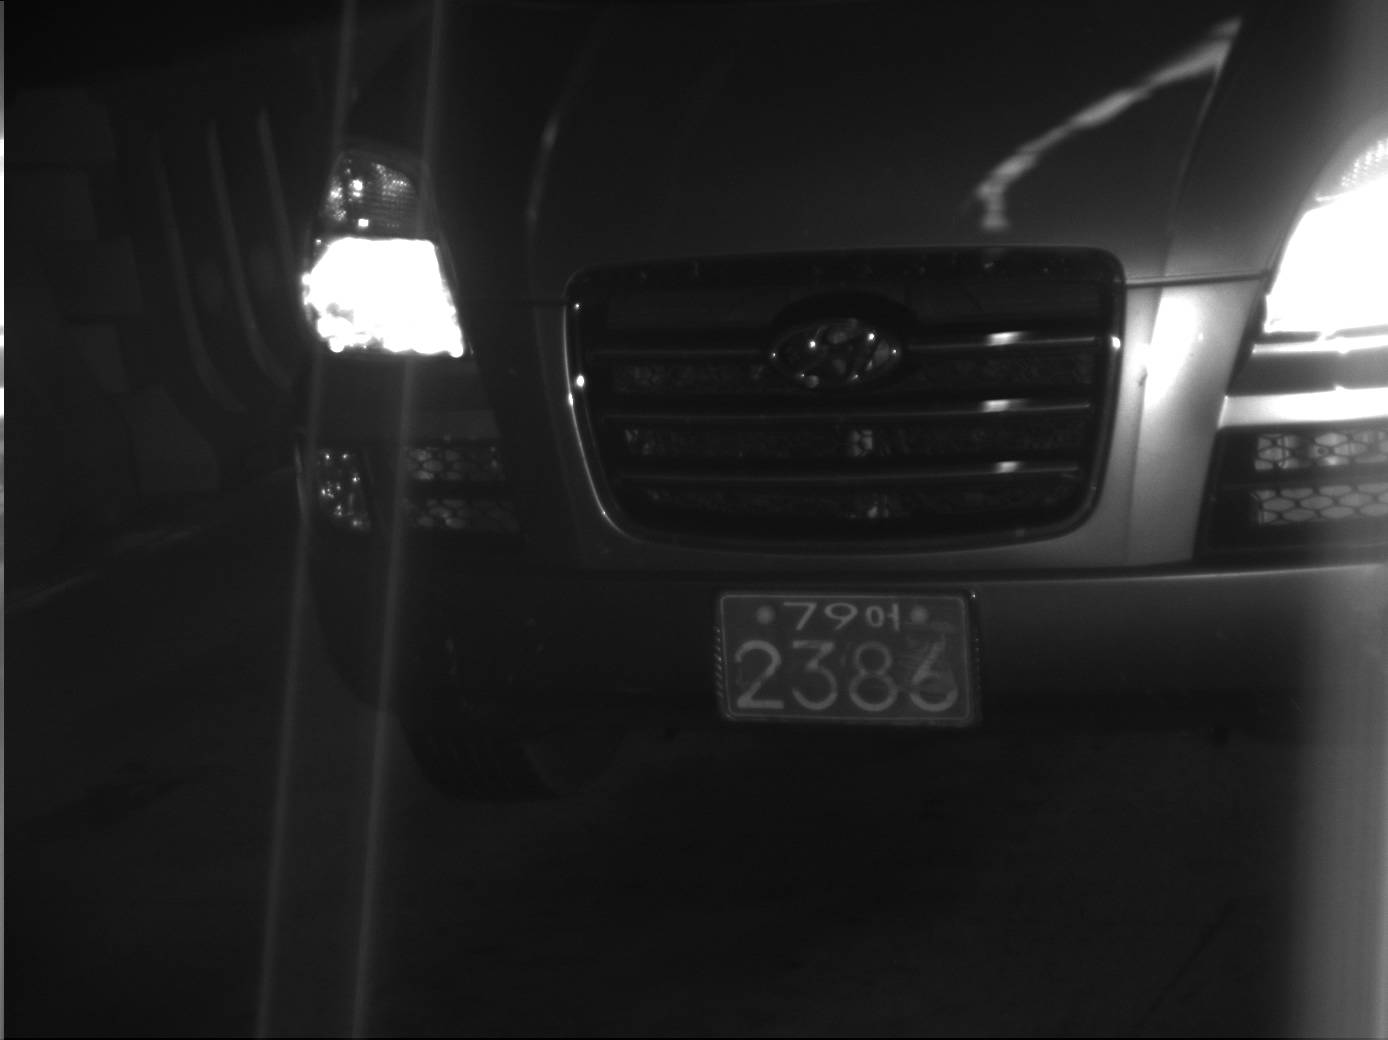car: (269, 1, 1387, 811)
plate: (710, 588, 984, 724)
